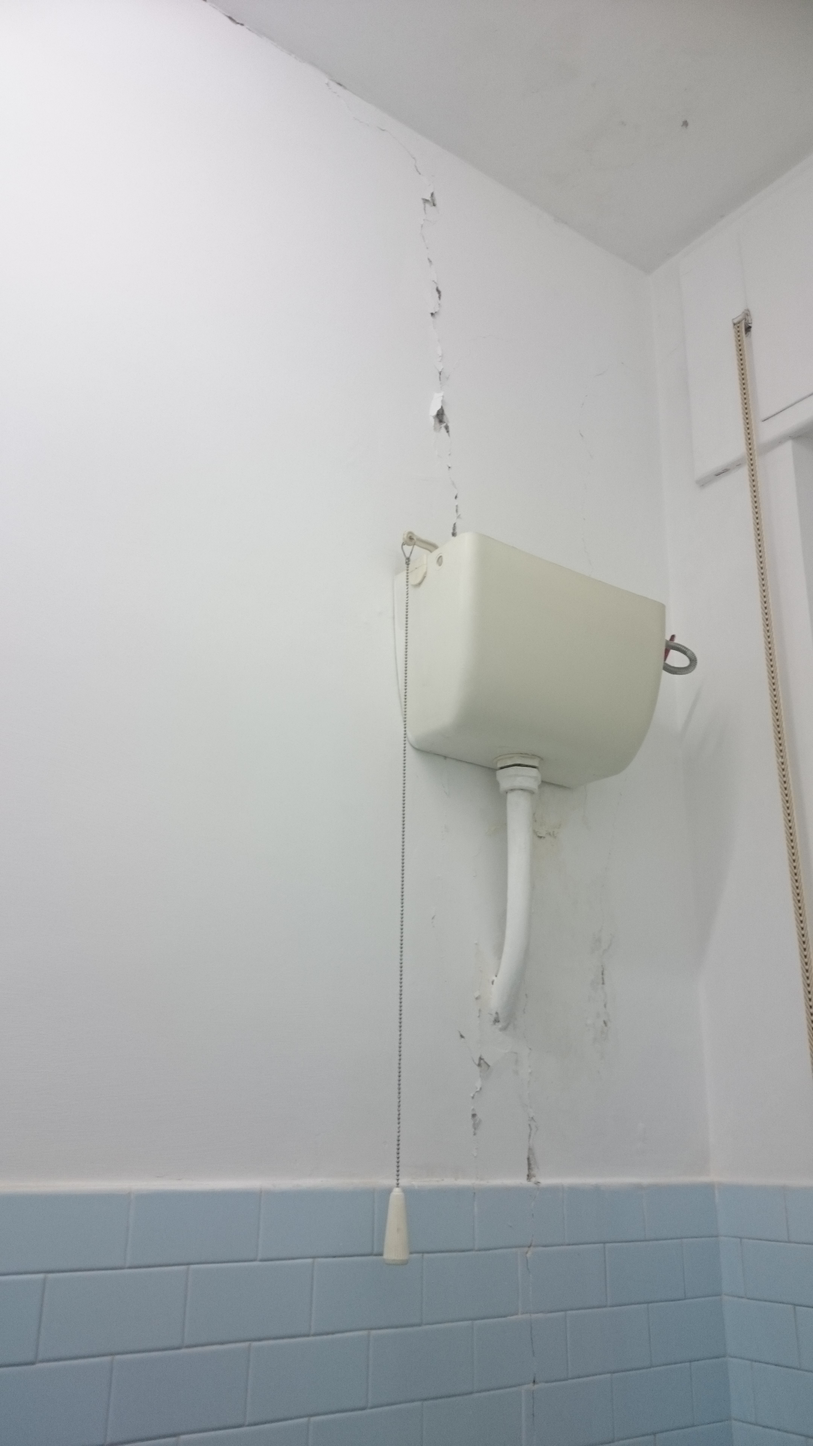Crack: (178, 1, 470, 534), (515, 993, 551, 1442)
